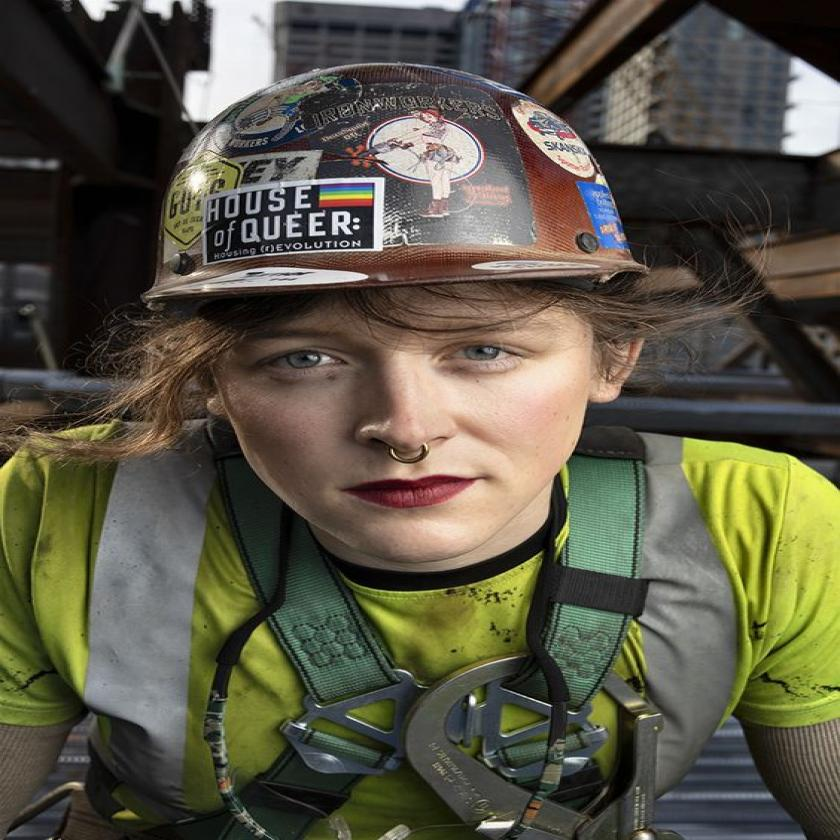Con_casco: (116, 28, 704, 591)
